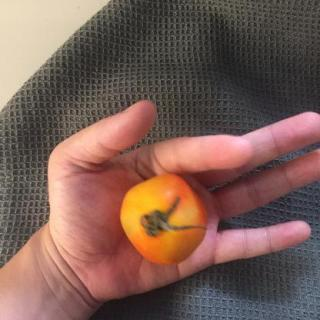Tomat: (108, 171, 229, 266)
